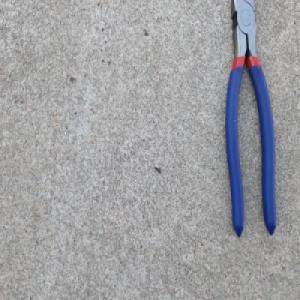Pliers: (223, 0, 278, 239)
